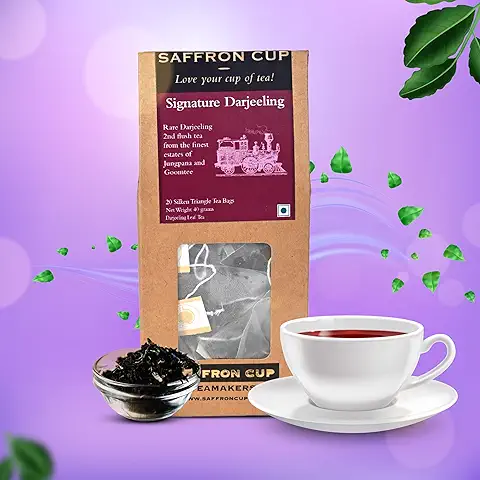Tea: (104, 39, 461, 440)
